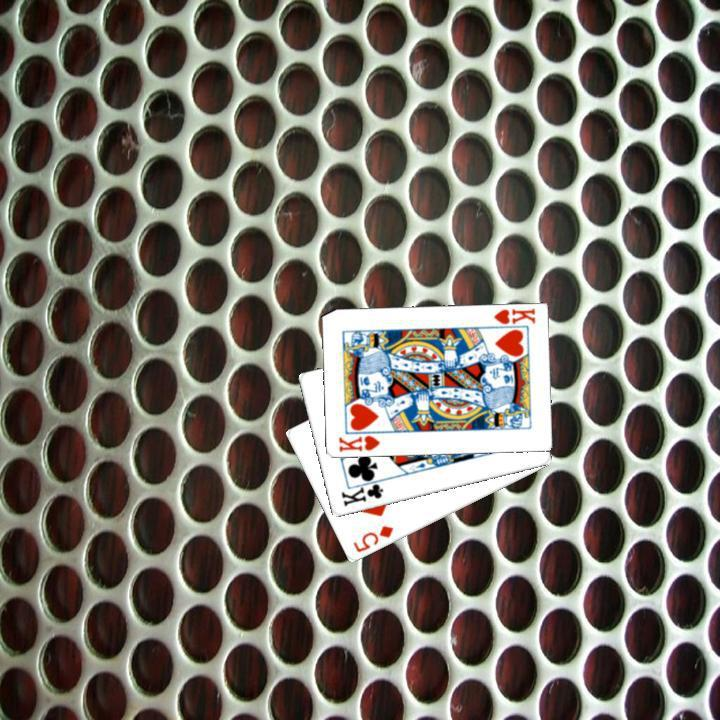5: (349, 521, 395, 555)
K: (337, 474, 387, 509), (334, 431, 381, 454), (489, 305, 537, 327)
